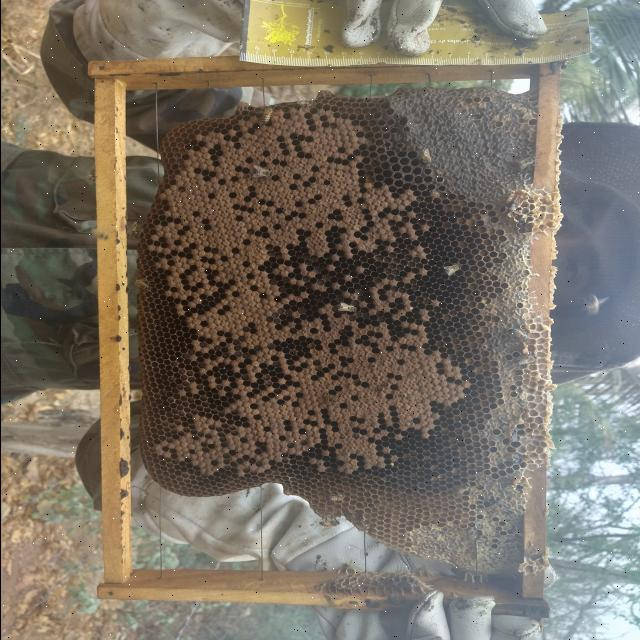cria: (144, 108, 468, 478)
marco: (125, 75, 533, 575)
